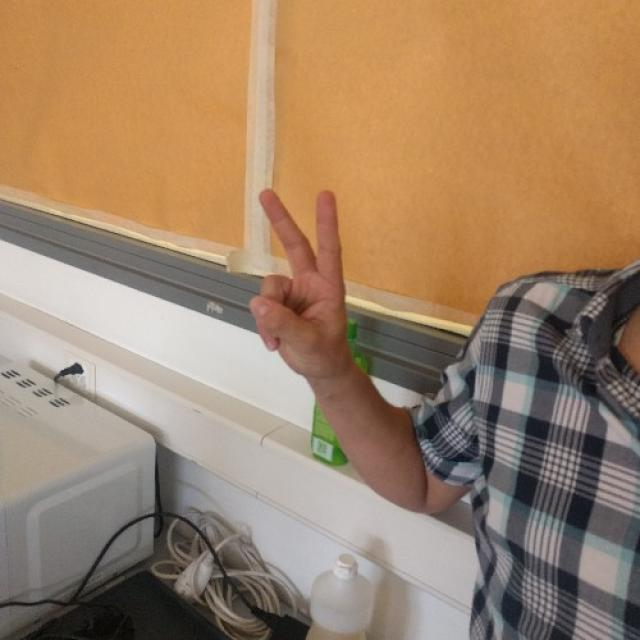scissors: (249, 188, 346, 375)
